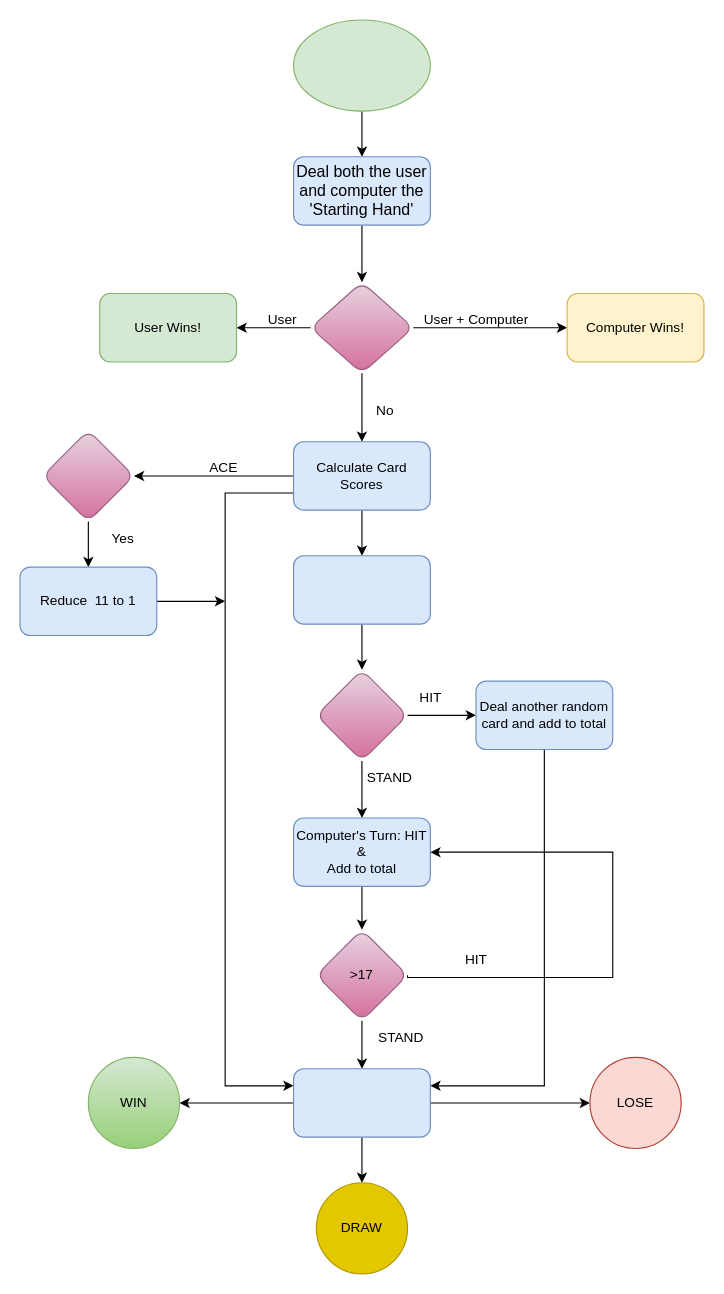
The diagram is 724 pixels wide and 1294 high, and some of its shapes have lost their labels. The box of each missing label's shape, as (x1, y1, x2, y2) in pixels:
Ace? >21: (42, 429, 134, 522)
BlackJack?: (310, 281, 413, 373)
Calculate Score & Compare Score: (292, 1068, 430, 1137)
Reveal Computer's first card.: (292, 555, 430, 624)
START: (292, 19, 430, 111)
User: HIT?: (315, 669, 408, 761)
